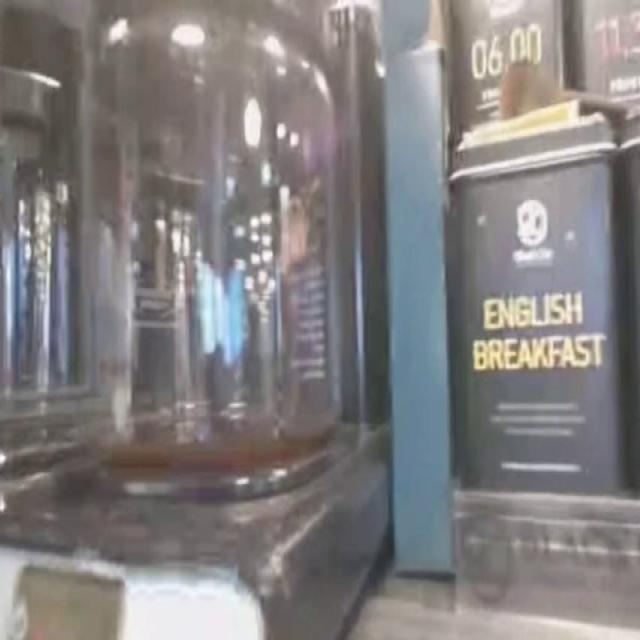nocoffee: (92, 74, 343, 444), (0, 147, 80, 439)
